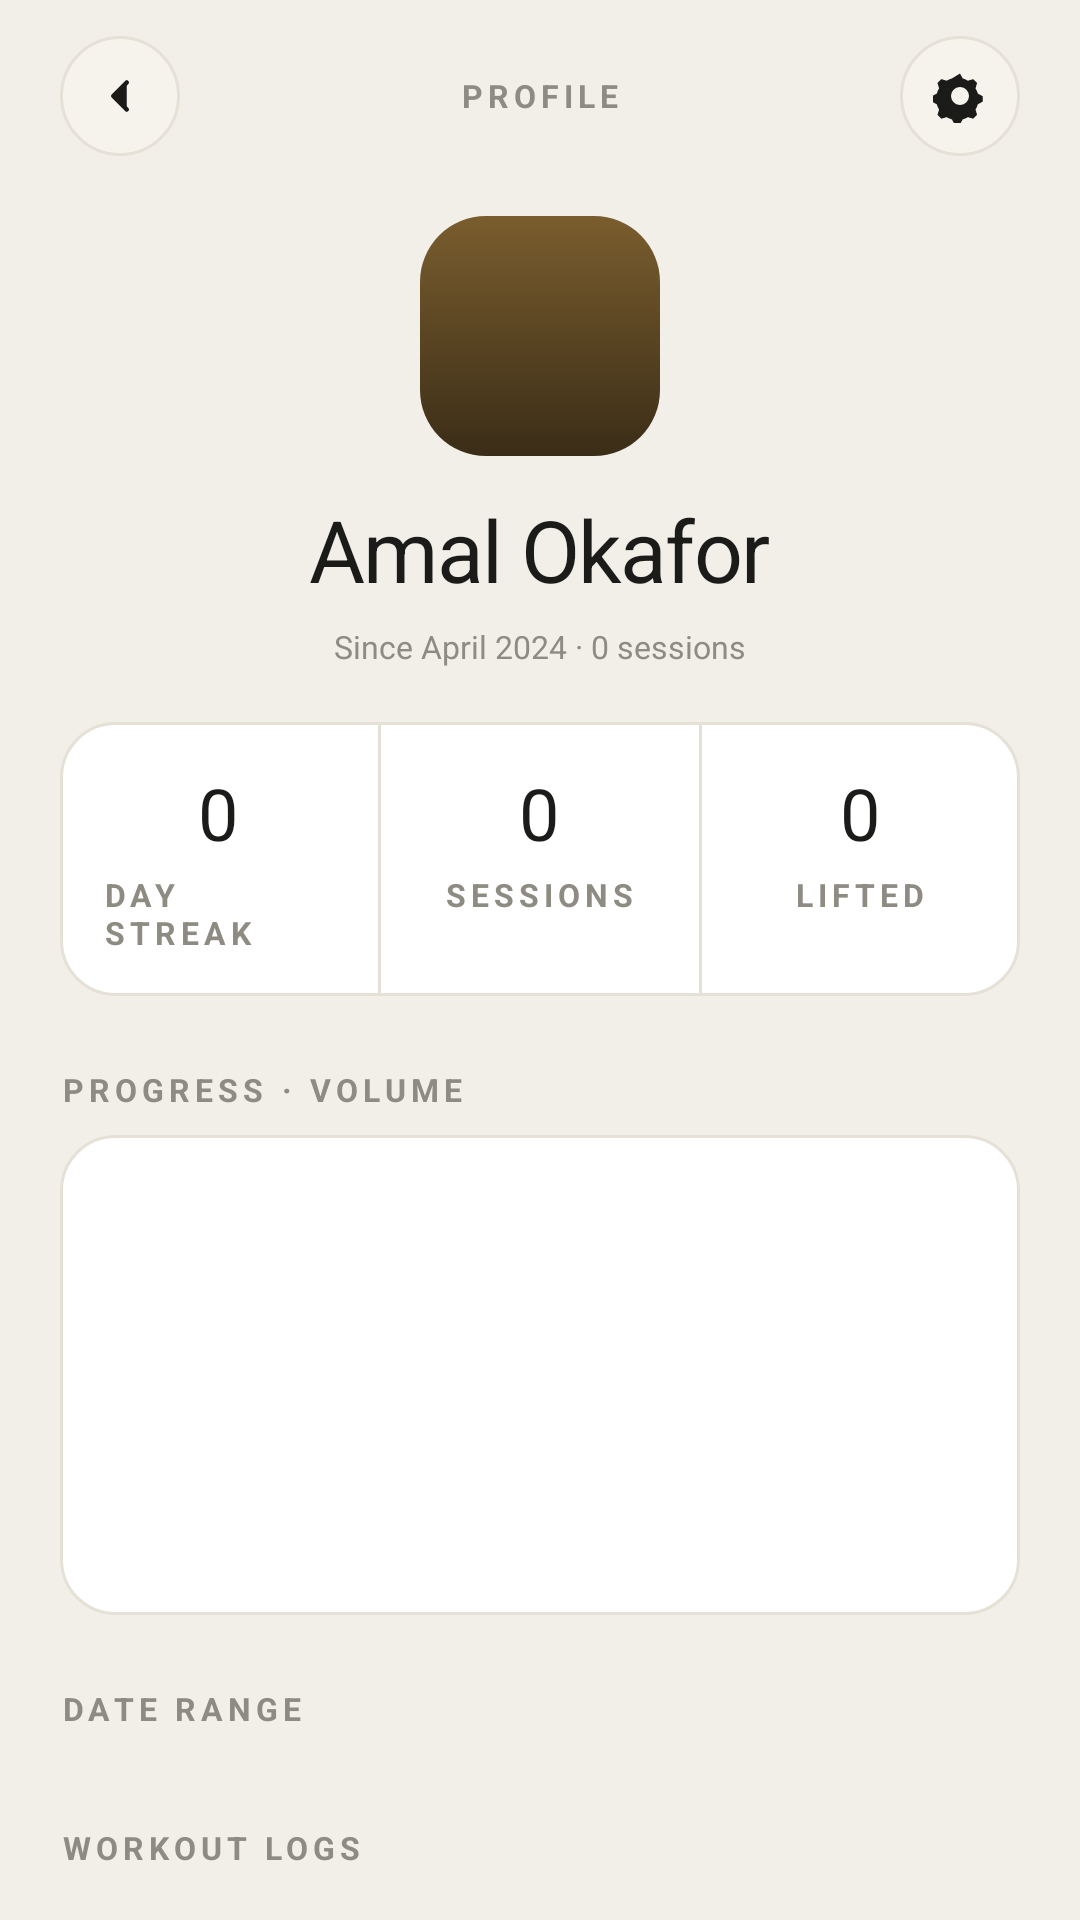

Icons on this 1080w x 1920h Android screen, each with its box as box=[x1, y1, x2, y2]:
Back: box=[111, 80, 129, 112]
Settings: box=[933, 73, 983, 123]
